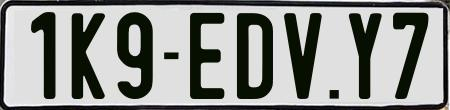1: (28, 11, 55, 98)
7: (391, 12, 427, 98)
9: (115, 11, 155, 103)
D: (236, 11, 277, 103)
E: (190, 10, 229, 98)
K: (71, 11, 110, 101)
V: (283, 12, 325, 102)
Y: (347, 13, 382, 102)
